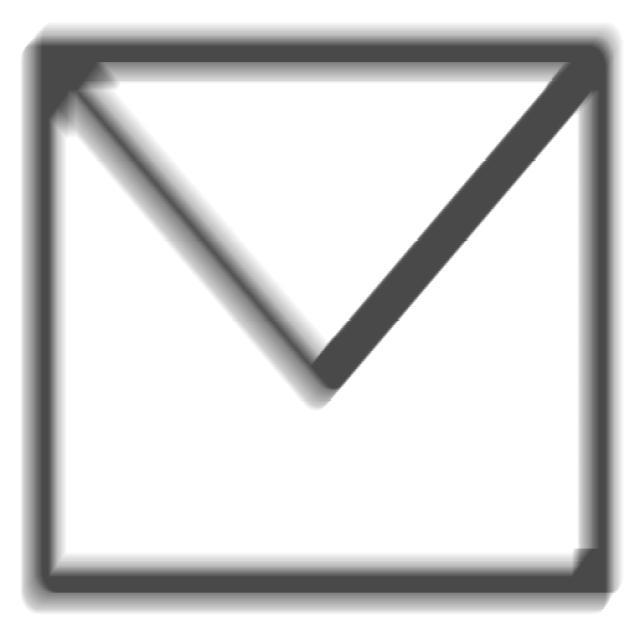letter: (11, 31, 625, 619)
